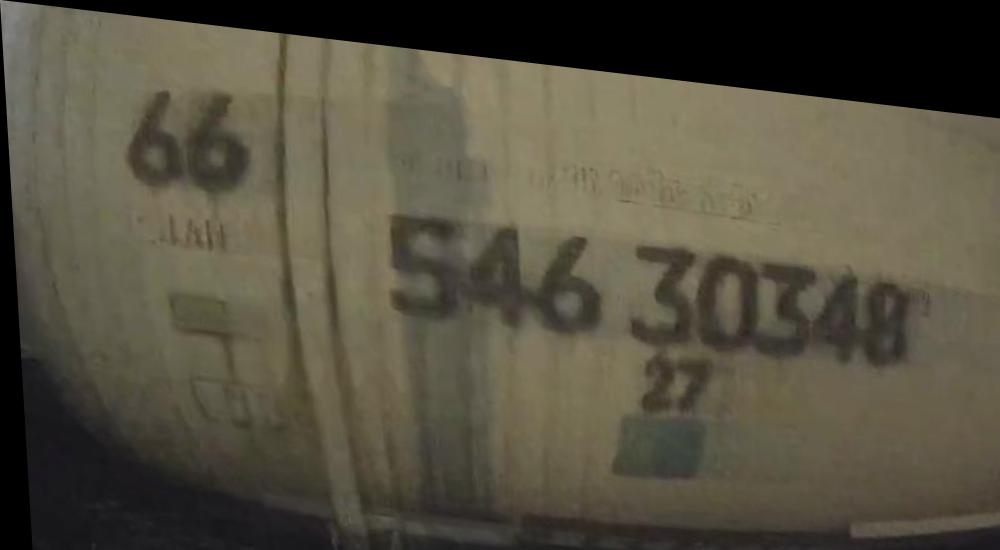Wagon-number: (375, 193, 913, 362)
